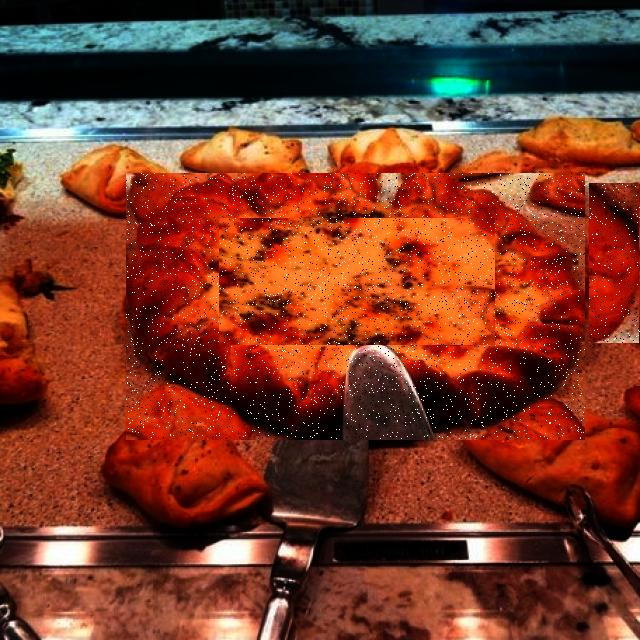Cheese: (219, 219, 495, 345)
Pizza: (126, 174, 585, 439), (589, 183, 640, 343)
